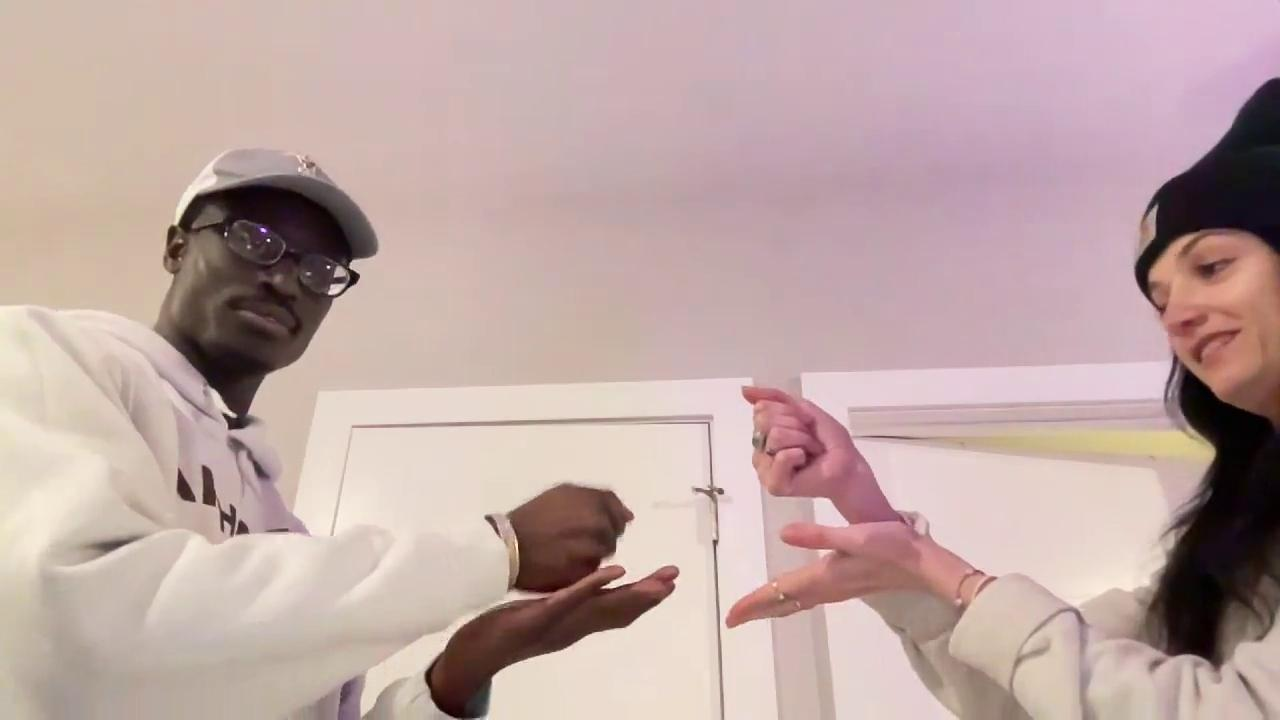Rock: (505, 478, 634, 595), (742, 387, 856, 504)
